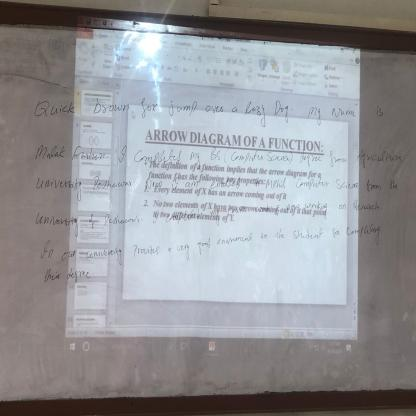Handwritten text: (29, 127, 408, 176), (30, 85, 401, 134), (33, 201, 392, 232), (27, 171, 407, 200), (21, 237, 402, 264), (36, 264, 112, 292)
Whiteboard: (0, 2, 416, 416)
